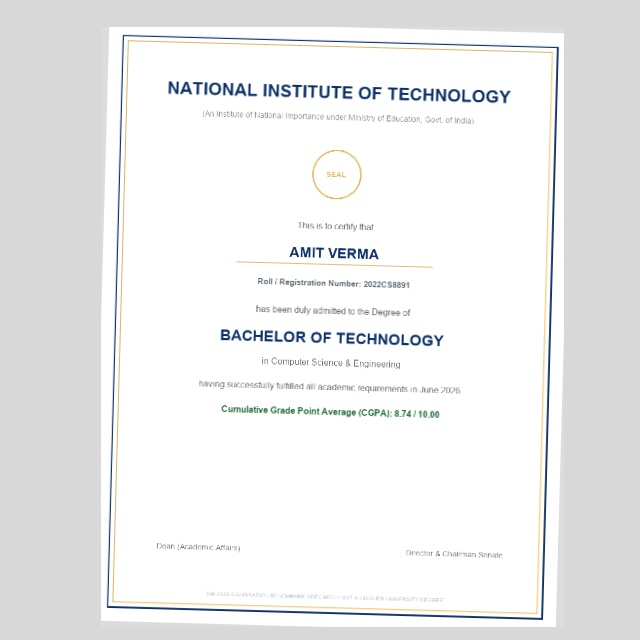marksheet: (101, 27, 564, 627)
